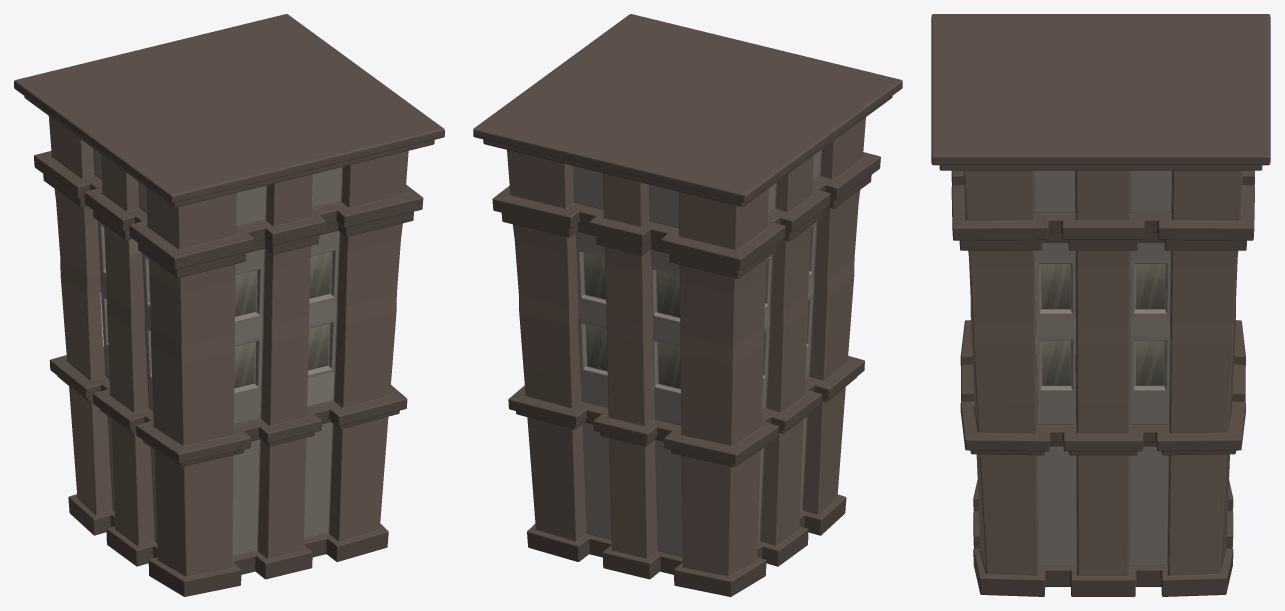
The model's file is EDIFICIO GRANDE.fbx.
3 renders of one model, left to right at view 1: azimuth 30°, elevation 25°; view 2: azimuth 150°, elevation 25°; view 3: azimuth 270°, elevation 25°, orthographic. The views are drawn at different scales.
Parts seen in each view (by area): view 1: farola.003; view 2: farola.003; view 3: farola.003.
Part boxes in pixels (x1,y1,x2,y2): farola.003: (14,14,444,596); farola.003: (473,14,902,596); farola.003: (931,14,1270,596).
Bounding box in the file's own units: 2042 × 2044 × 3041.
1 material, 1 textured.
